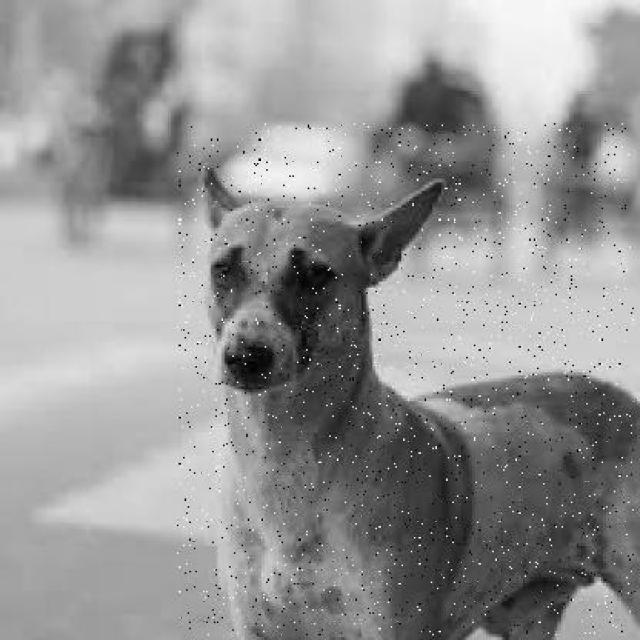Dog: (177, 123, 637, 637)
